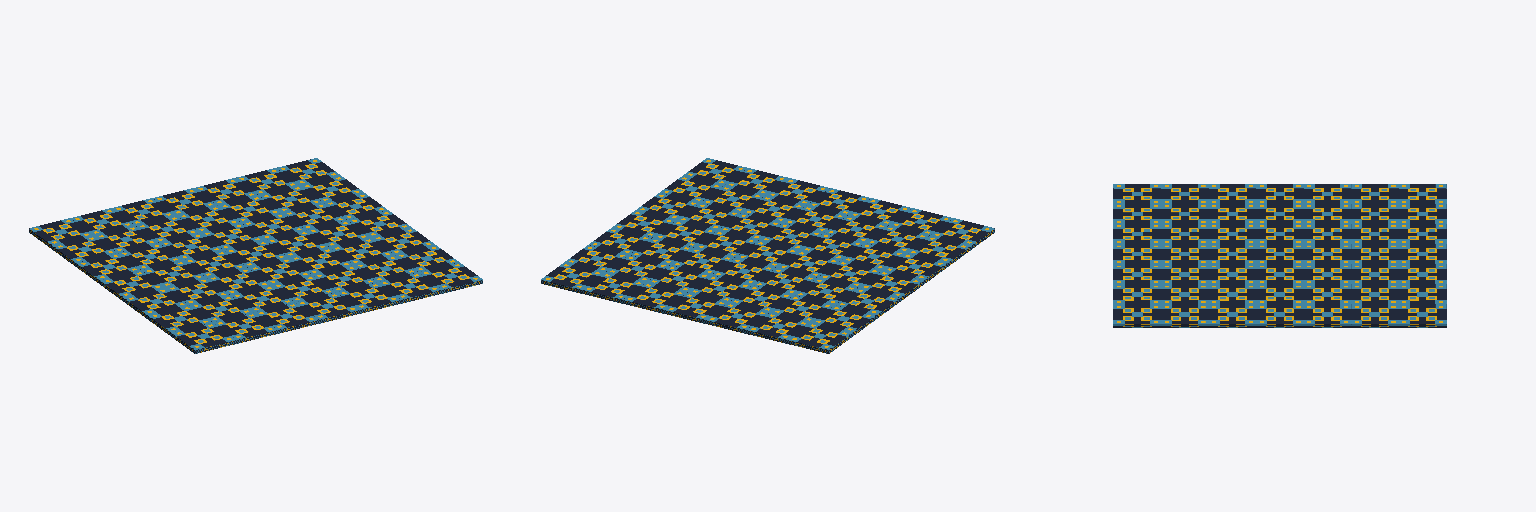
The picture shows the model from 3 angles: view 1: azimuth 30°, elevation 25°; view 2: azimuth 150°, elevation 25°; view 3: azimuth 270°, elevation 25°; orthographic projection.
Parts seen in each view (by area): view 1: ground; view 2: ground; view 3: ground.
Boxes of the visible parts, <box> form: ground: <box>29,158,482,353</box>; ground: <box>541,158,994,353</box>; ground: <box>1113,184,1446,327</box>.
Bounding box in the file's own units: 5.62 × 0.0742 × 5.62.
1 materials, 1 textured.